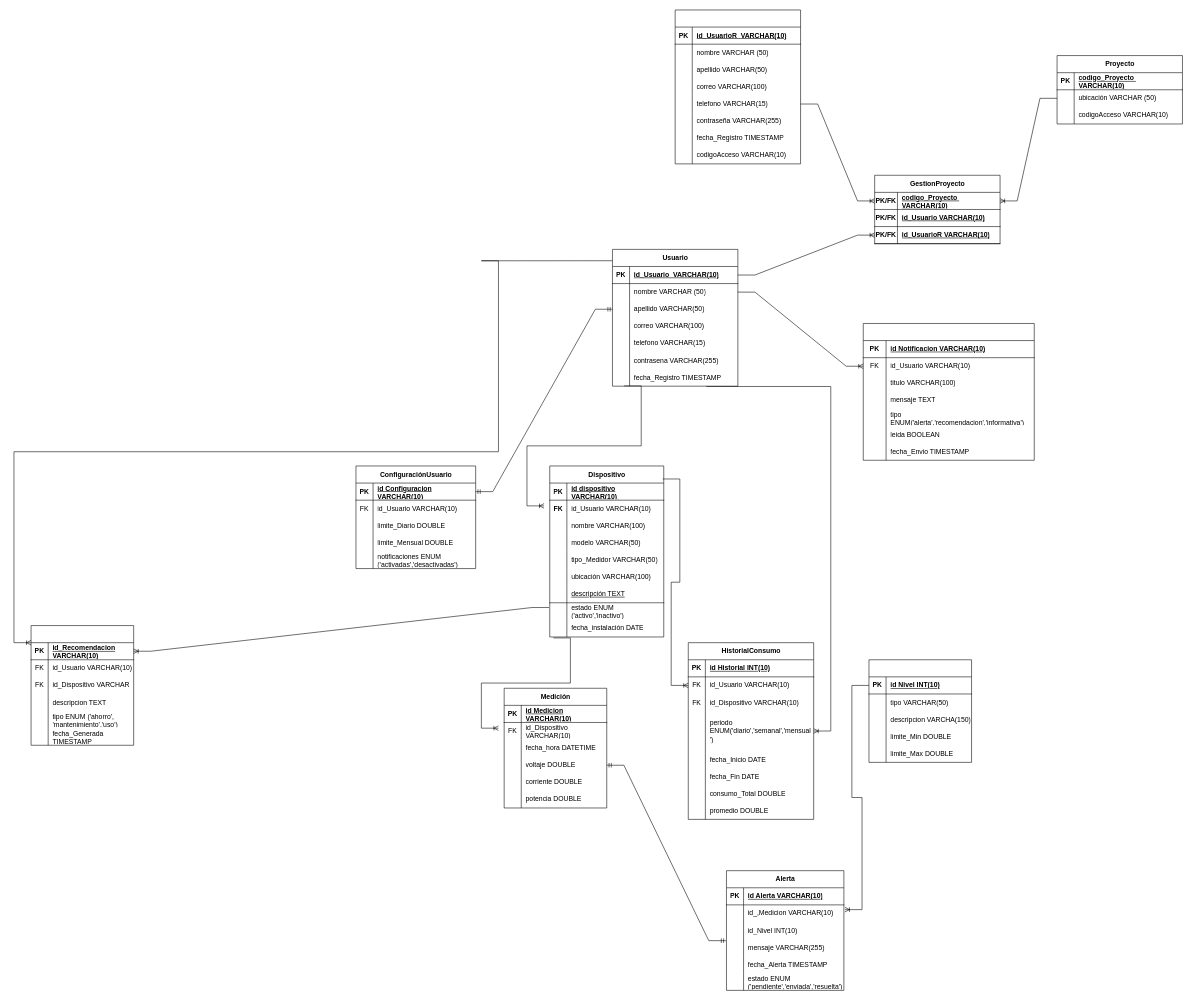
Image size: 1192x1000. Some labels were removed from this diagram. The box of each missing label's shape, as (x1, y1, x2, y2) in pixels:
NivelConsumo: (868, 659, 972, 762)
Notificación: (863, 323, 1034, 460)
Recomendación: (30, 625, 134, 745)
UsuarioResponsable: (675, 9, 801, 164)
